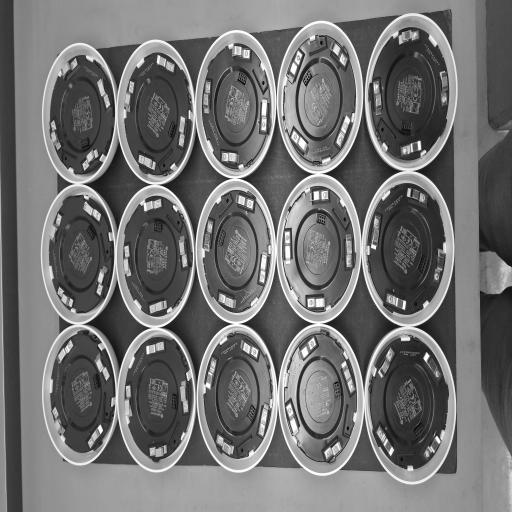konnektor: (217, 226, 231, 252), (414, 417, 426, 443), (332, 376, 344, 402), (419, 249, 428, 278), (79, 133, 95, 149), (246, 402, 256, 426), (301, 69, 313, 89), (235, 72, 251, 86), (85, 224, 96, 244), (92, 371, 101, 395), (168, 119, 176, 144), (316, 212, 328, 228), (401, 116, 413, 132), (171, 391, 178, 414), (154, 220, 164, 236)
yayli: (374, 422, 398, 464), (423, 347, 444, 391), (280, 225, 298, 271), (334, 107, 354, 148), (48, 206, 66, 249), (289, 126, 313, 158), (328, 34, 349, 70), (383, 288, 412, 314), (303, 289, 333, 314), (287, 46, 304, 90), (294, 334, 320, 362), (376, 347, 396, 383), (255, 244, 271, 288), (284, 396, 300, 440), (202, 356, 221, 393), (395, 24, 422, 50), (236, 338, 263, 364), (81, 196, 104, 226), (54, 338, 74, 372), (135, 150, 160, 177), (257, 92, 272, 137), (368, 211, 384, 253), (51, 401, 68, 440), (96, 72, 111, 116), (176, 110, 190, 156), (432, 242, 446, 288), (86, 419, 106, 451), (214, 431, 236, 460), (94, 260, 110, 299), (398, 138, 425, 161), (200, 76, 214, 120), (176, 230, 190, 274), (341, 354, 356, 395), (179, 374, 191, 424), (319, 436, 344, 460), (94, 347, 111, 382), (423, 429, 441, 462), (48, 112, 62, 154), (438, 64, 450, 112), (140, 339, 166, 361), (147, 437, 169, 463), (257, 395, 270, 439), (215, 291, 242, 312), (56, 283, 77, 310), (60, 55, 79, 84), (307, 185, 334, 205), (152, 53, 176, 75), (230, 44, 252, 68), (140, 193, 164, 215), (147, 296, 172, 317), (216, 147, 242, 167), (234, 192, 256, 215), (123, 76, 135, 118), (404, 188, 432, 206), (123, 239, 134, 283), (372, 77, 383, 120), (202, 214, 214, 253), (344, 231, 354, 275), (124, 382, 134, 422), (81, 150, 99, 172)
